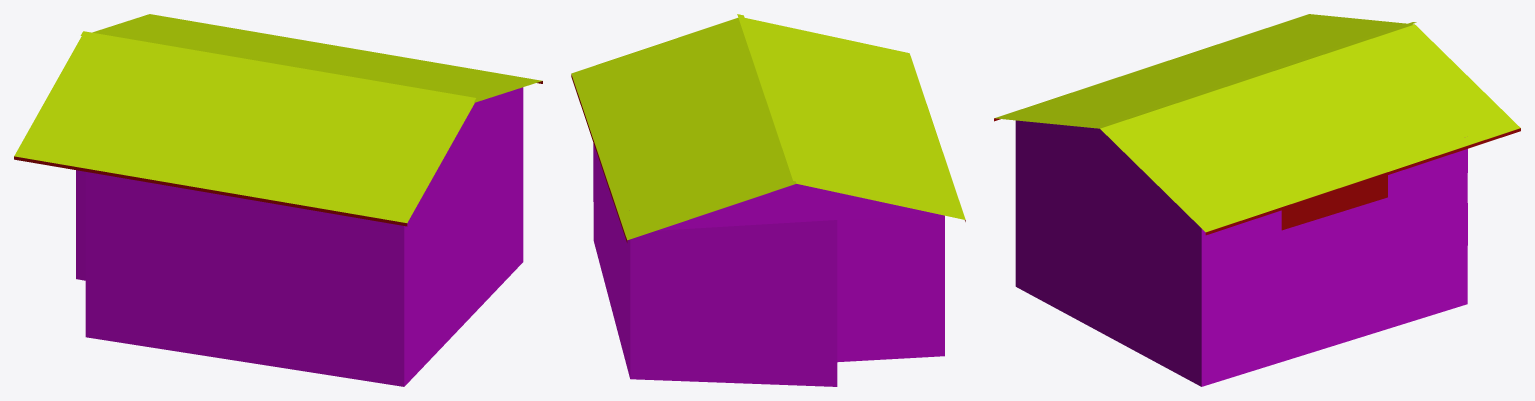
Rendered from bgj_83.glb.
3 views of the same model, side by side, from view 1: azimuth 30°, elevation 25°; view 2: azimuth 150°, elevation 25°; view 3: azimuth 270°, elevation 25° (orthographic). The views are drawn at different scales.
Parts seen in each view (by area): view 1: bgj_83; view 2: bgj_83; view 3: bgj_83.
Boxes of the visible parts, box(x1,y1,x2,y2) form: bgj_83: box(14, 14, 542, 386); bgj_83: box(571, 14, 965, 386); bgj_83: box(994, 14, 1520, 386).
Size of the model in its own units: 18.28 by 8.36 by 18.62.
